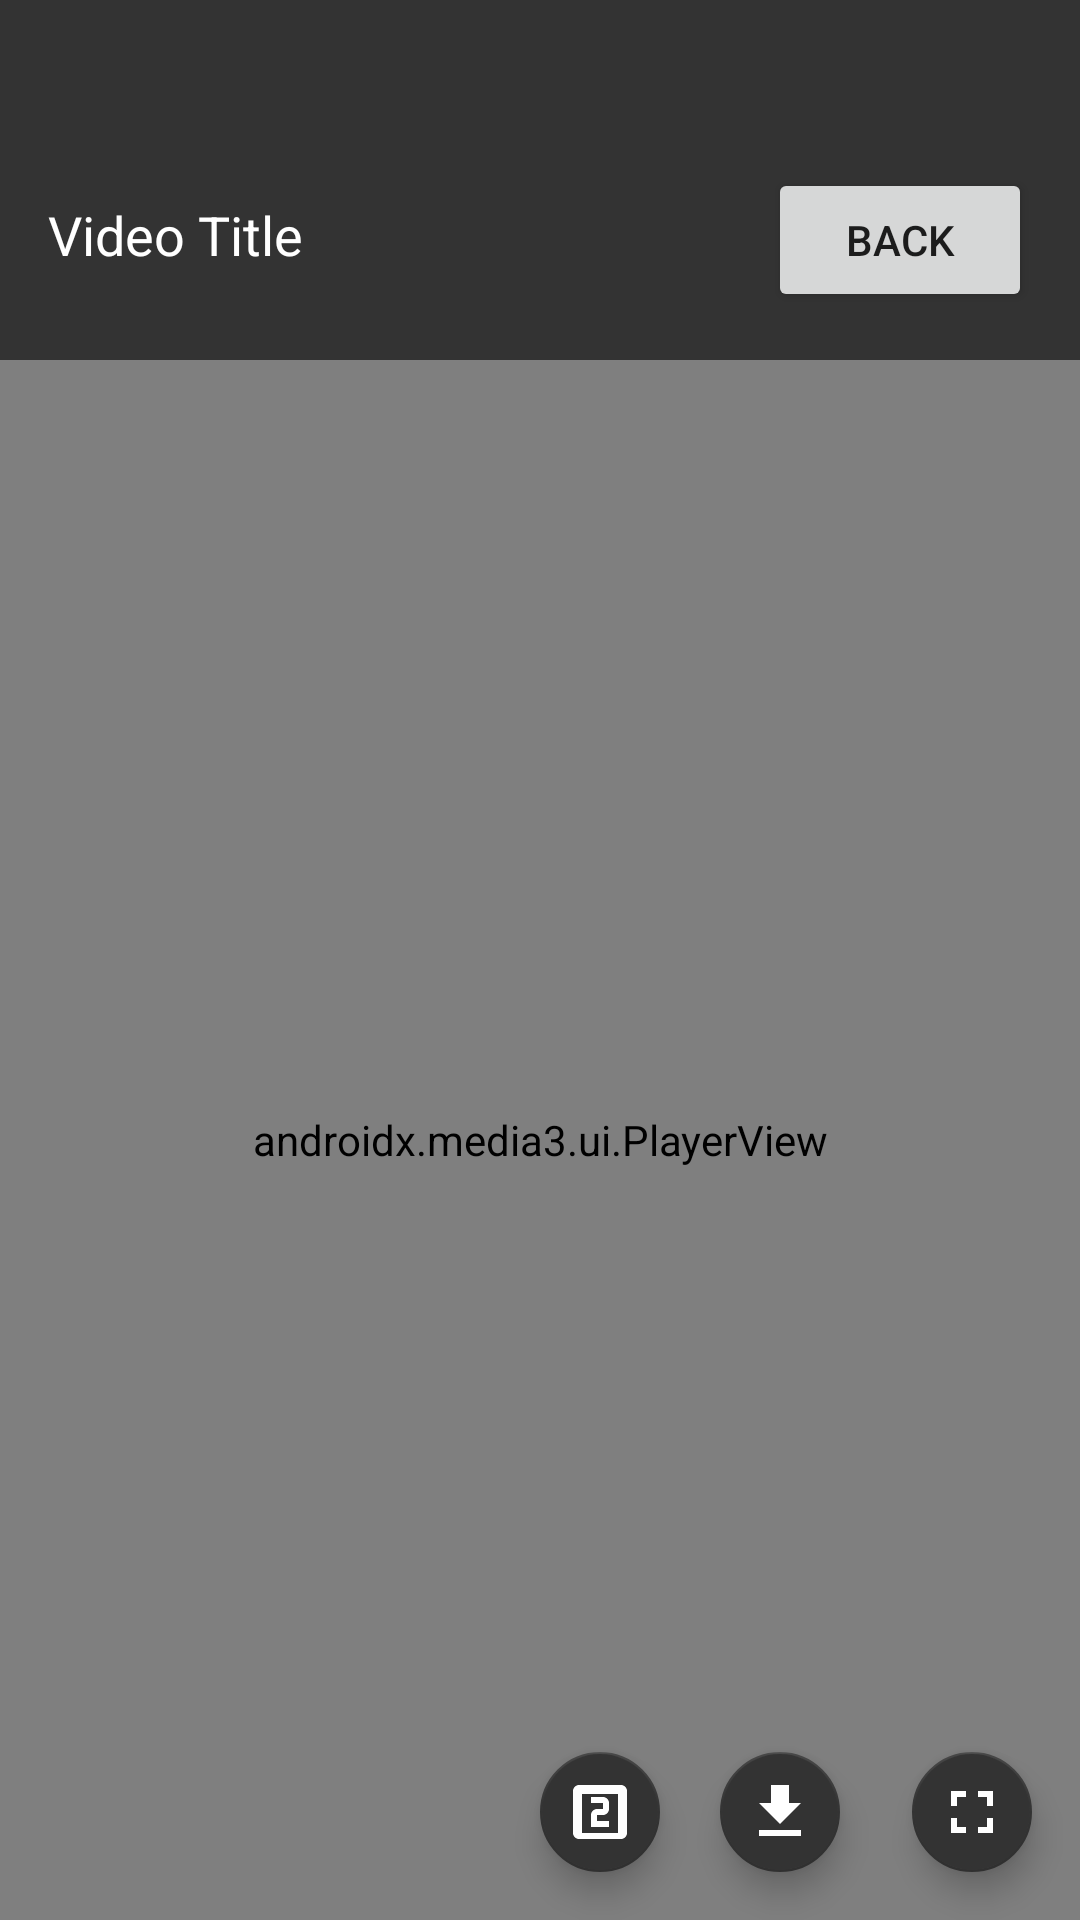

Screen size 1080px x 1920px. Icon name, then its center in pixels as (x,y):
Download Video: (780,1812)
Toggle Fullscreen: (972,1812)
